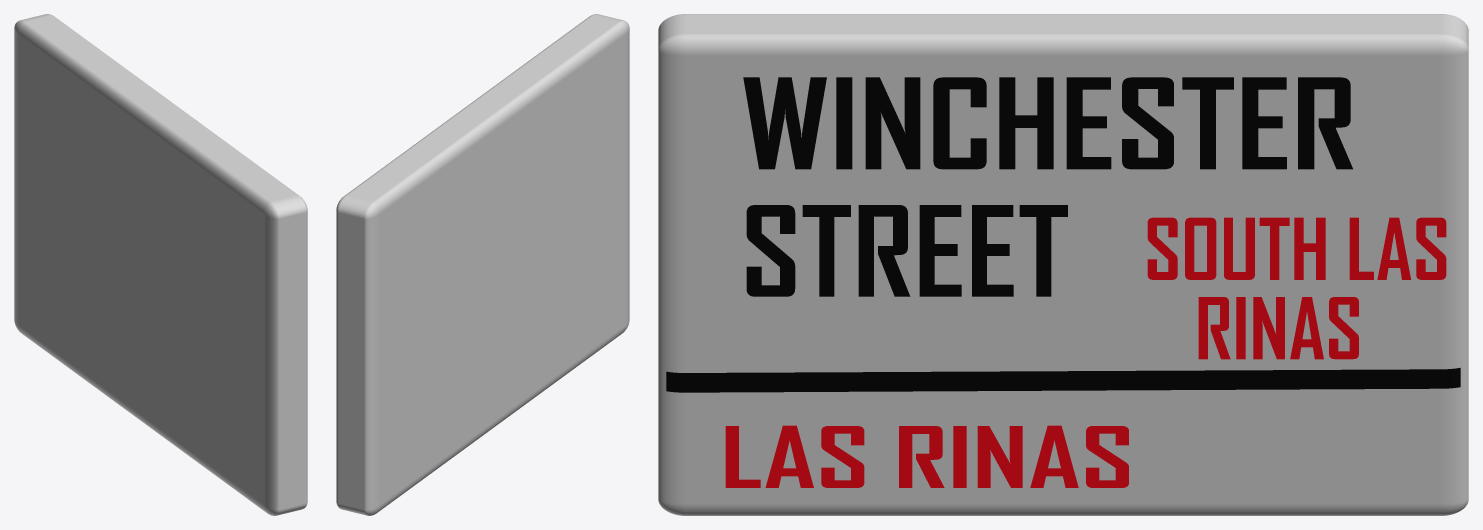
Rendered from uk_styled_street_sign_17.fbx.
3 views of the same model, side by side, from view 1: azimuth 30°, elevation 25°; view 2: azimuth 150°, elevation 25°; view 3: azimuth 270°, elevation 25° (orthographic). The views are drawn at different scales.
Parts seen in each view (by area): view 1: Cube; view 2: Cube; view 3: Cube, Text, Text.001, Text.002, Text.003, Text.004.
Part boxes in pixels (x1,y1,x2,y2): Cube: (14, 14, 307, 515); Cube: (336, 14, 629, 515); Cube: (658, 14, 1468, 515); Text: (743, 77, 1352, 169); Text.001: (746, 205, 1067, 296); Text.002: (725, 425, 1128, 487); Text.003: (1147, 217, 1446, 279); Text.004: (1198, 297, 1358, 359).
Size of the model in its own units: 1.63 by 11.91 by 18.18.
